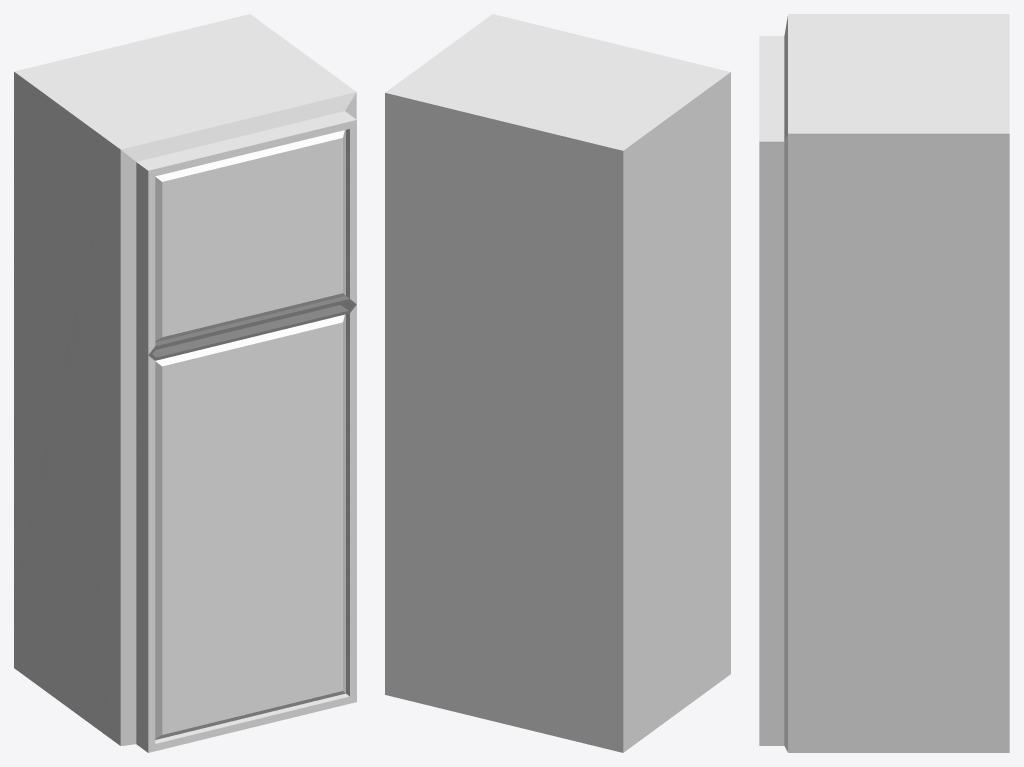
File: Blockout_Fridge_01.fbx
The picture shows the model from 3 angles, left to right: view 1: azimuth 30°, elevation 25°; view 2: azimuth 150°, elevation 25°; view 3: azimuth 270°, elevation 25°; orthographic projection. The views are drawn at different scales.
Visible parts, largest first — view 1: pCube1; view 2: pCube1; view 3: pCube1.
Part boxes in pixels (x1,y1,x2,y2): pCube1: (14,14,356,752); pCube1: (385,14,730,752); pCube1: (759,14,1009,752).
Size of the model in its own units: 84.85 by 205 by 75.
